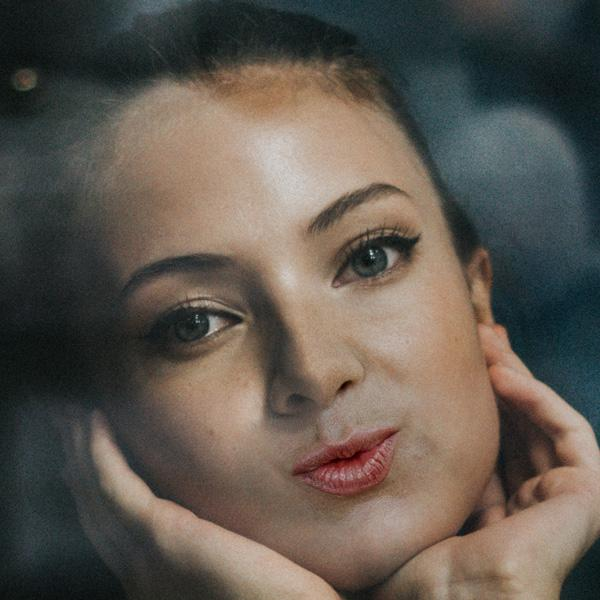Eyes: (133, 284, 256, 371), (318, 215, 427, 304)
